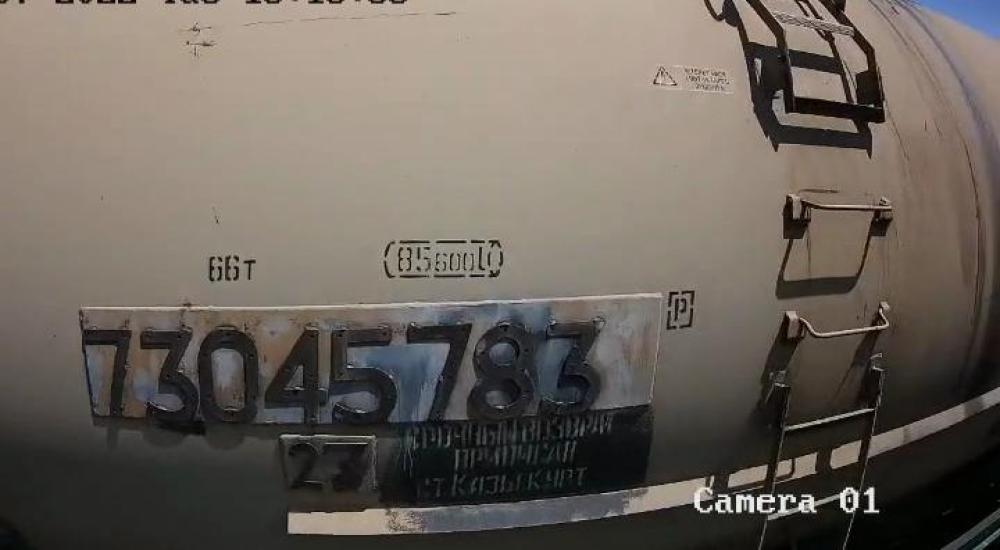Wagon-number: (81, 309, 611, 426)
